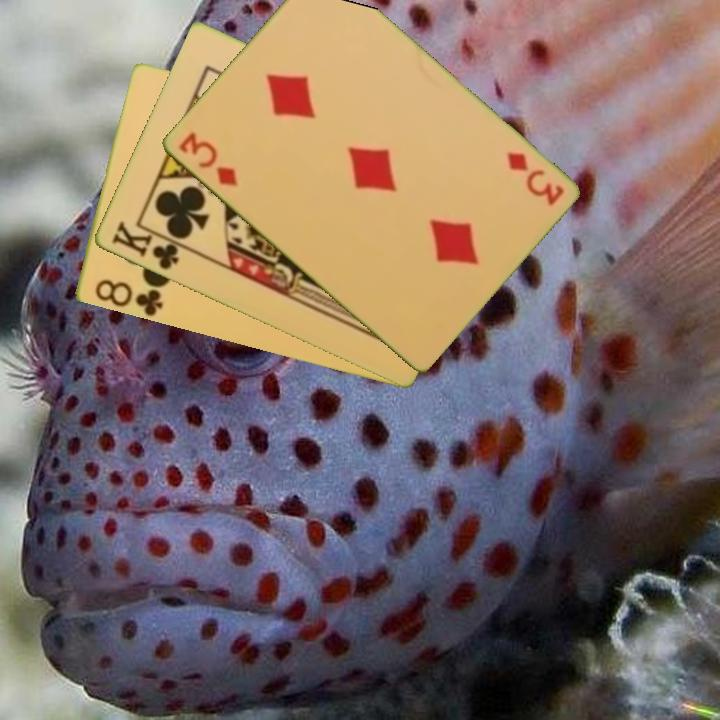3d: (174, 128, 241, 190), (502, 148, 566, 209)
8c: (91, 276, 166, 319)
Kc: (107, 218, 191, 273)
